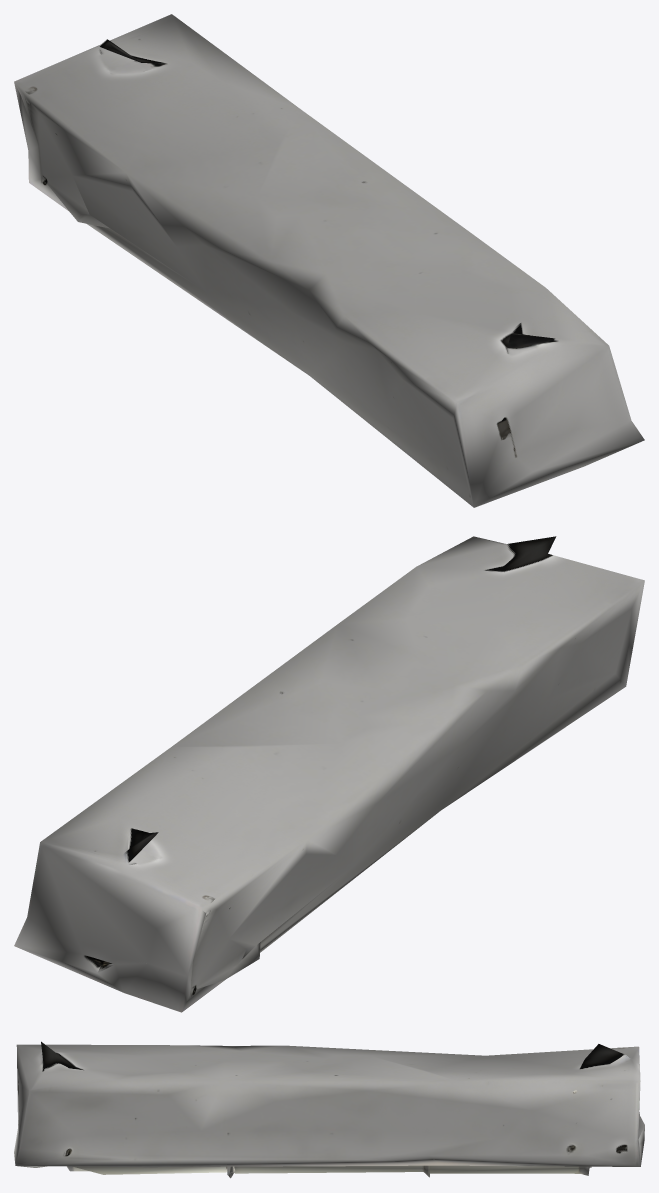
The model's file is fluorescente.glb.
3 views of the same model, one above another, from view 1: azimuth 30°, elevation 25°; view 2: azimuth 150°, elevation 25°; view 3: azimuth 270°, elevation 25° (orthographic). The views are drawn at different scales.
Visible parts, largest first — view 1: tripo_node_09ee0890-ea4c-4fe3-b08a-4422ab175261; view 2: tripo_node_09ee0890-ea4c-4fe3-b08a-4422ab175261; view 3: tripo_node_09ee0890-ea4c-4fe3-b08a-4422ab175261.
Boxes of the visible parts, x1,y1,x2,y2 form: tripo_node_09ee0890-ea4c-4fe3-b08a-4422ab175261: (14, 14, 644, 507); tripo_node_09ee0890-ea4c-4fe3-b08a-4422ab175261: (14, 536, 644, 1012); tripo_node_09ee0890-ea4c-4fe3-b08a-4422ab175261: (14, 1041, 644, 1178).
Bounding box in the file's own units: 0.2401 × 0.2136 × 1.
Materials: 1 (1 with a texture image).
